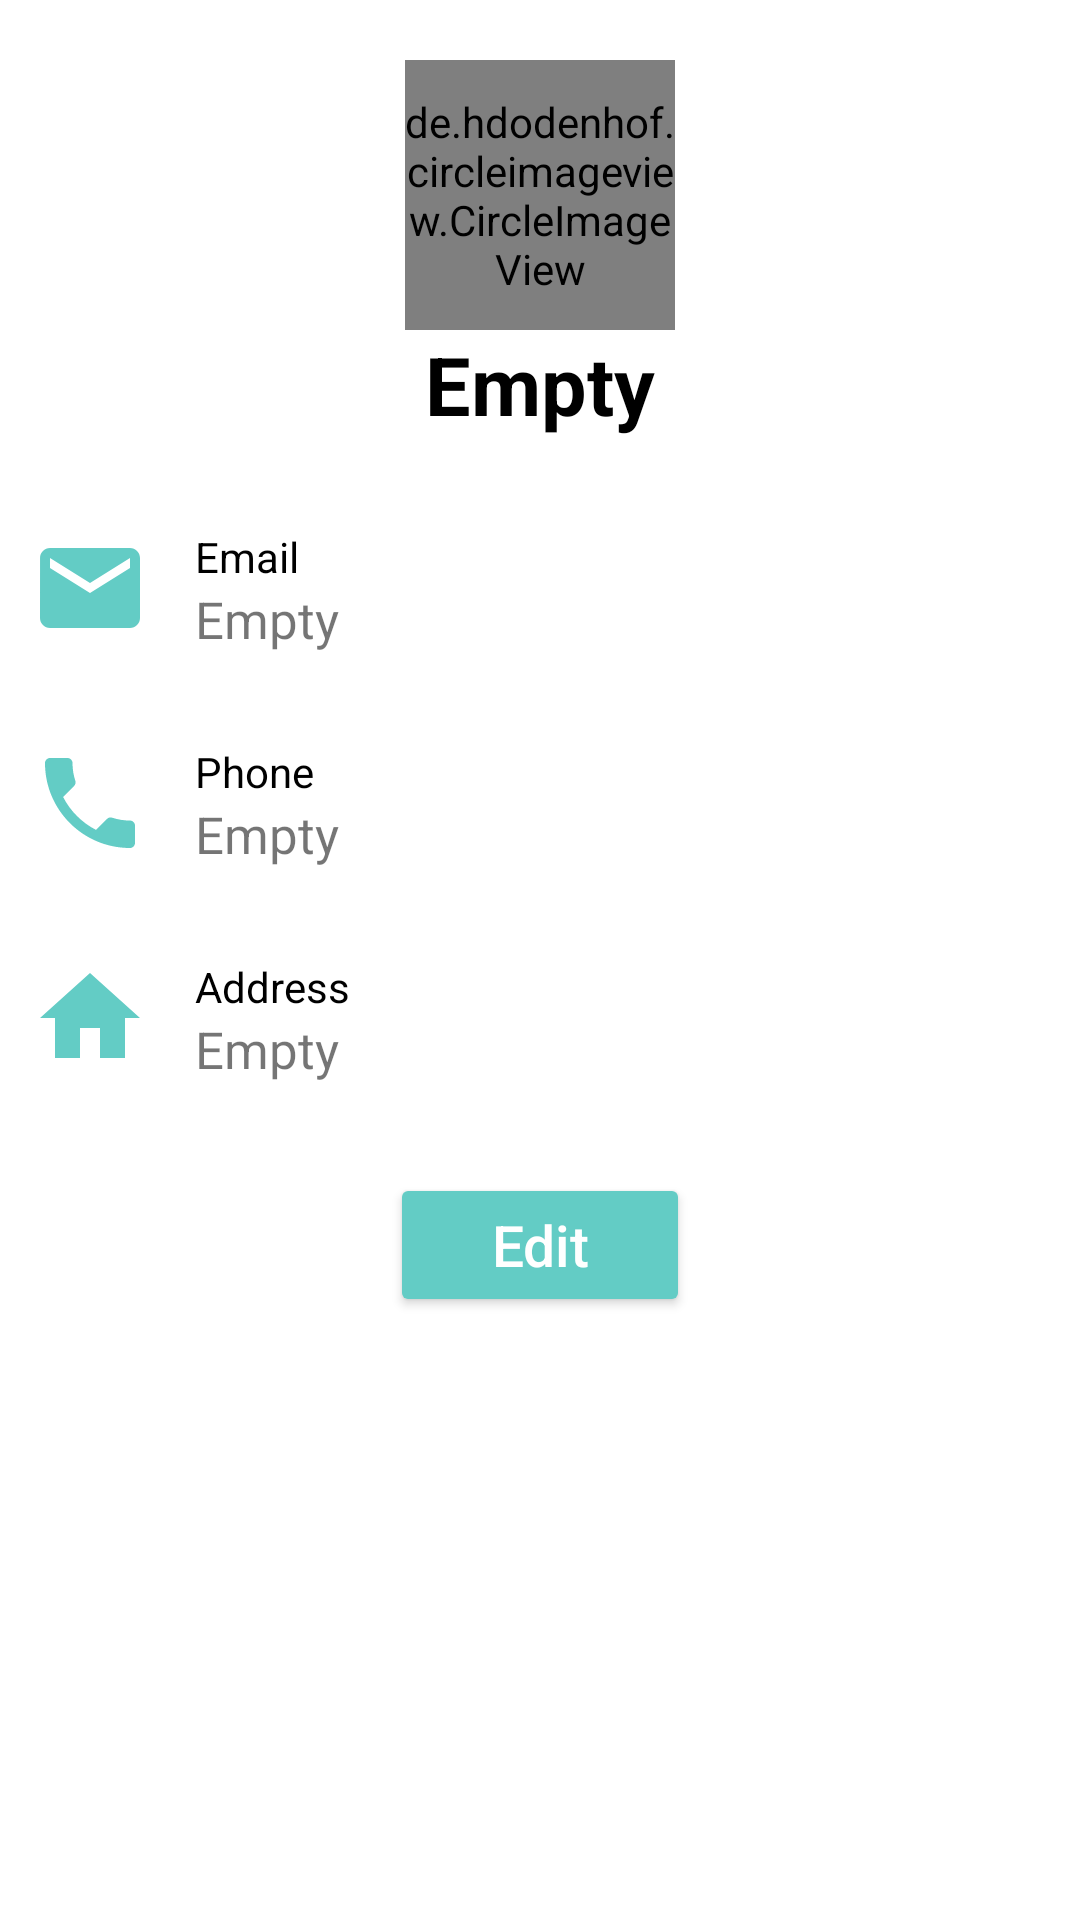

Named icons in this screenshot (1080 × 1920) and their bounding boxes, (x1, y1, x2, y2):
home: (40, 973, 140, 1058)
